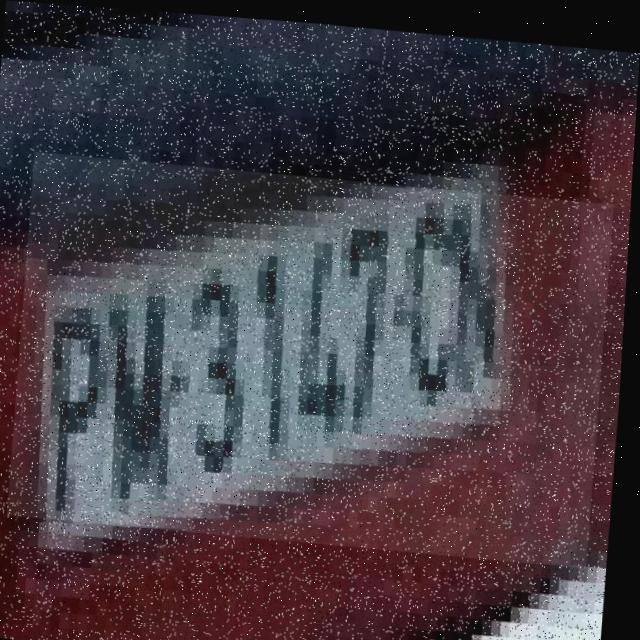LicensePlate: (12, 150, 616, 558)
